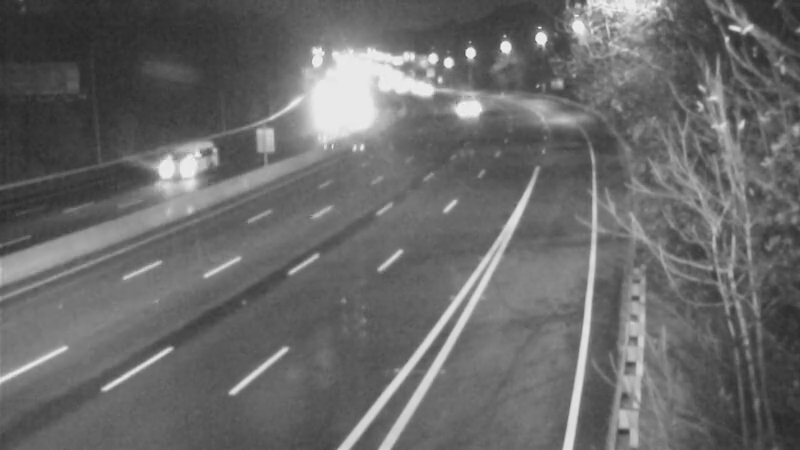vehicle: (126, 129, 206, 209), (442, 82, 492, 132)
